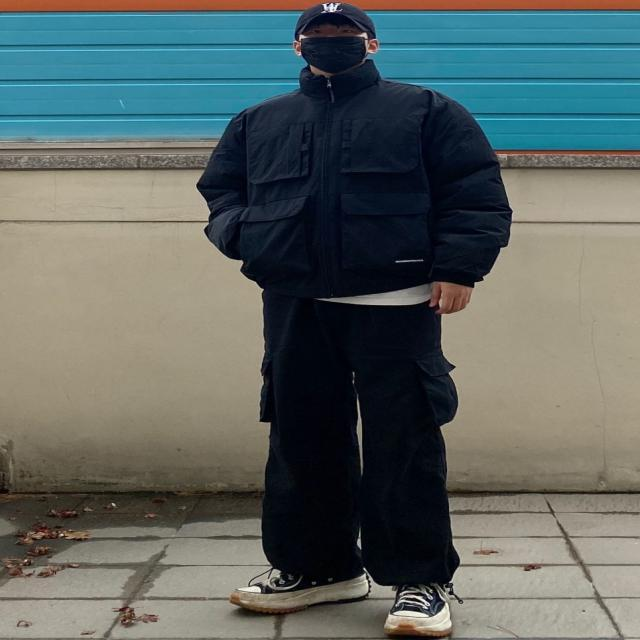cottonpants: (259, 288, 460, 588)
padding: (192, 55, 512, 298)
